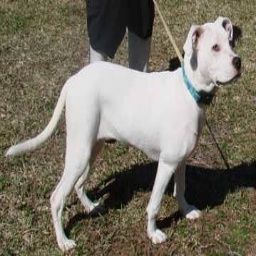dog: (47, 17, 242, 244)
